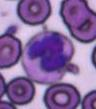N: (22, 31, 73, 84)
